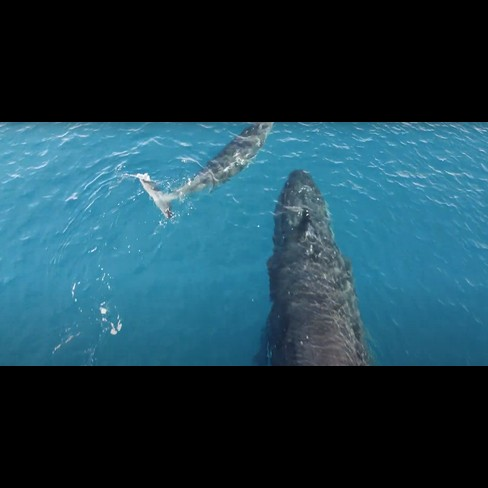hump: (250, 166, 378, 367), (132, 123, 277, 223)
